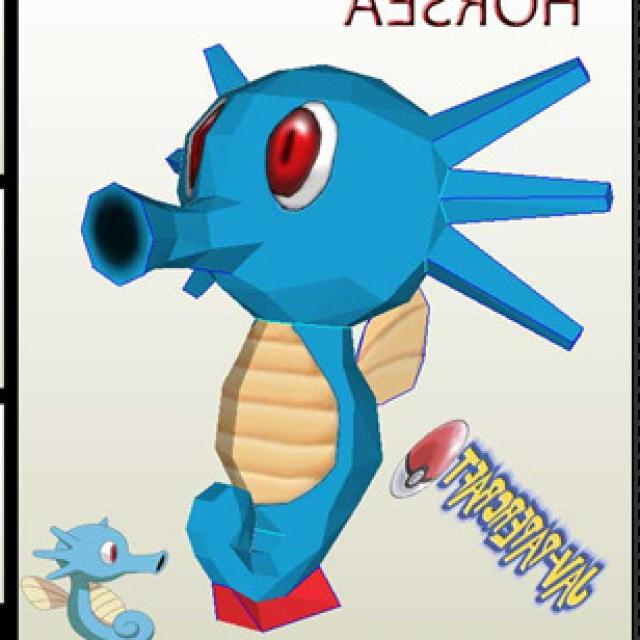Horsea: (83, 39, 443, 606), (33, 503, 166, 640)
